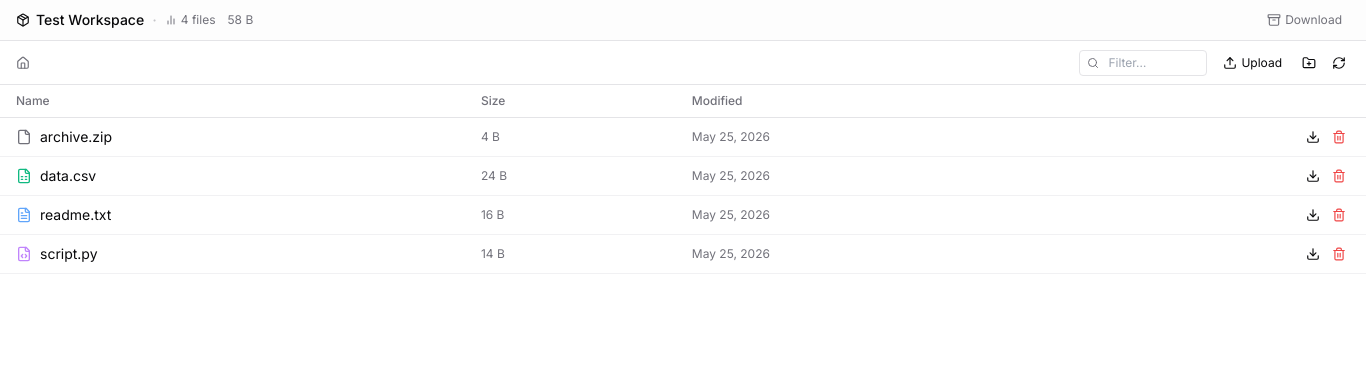
WorkspacePage › shows 'binary file' message for zip with no preview
The width and height of the screenshot is (1366, 381).
Step 1. Click the row with test id "file-row-archive.zip" → [683, 137], box [0,118,1365,156]
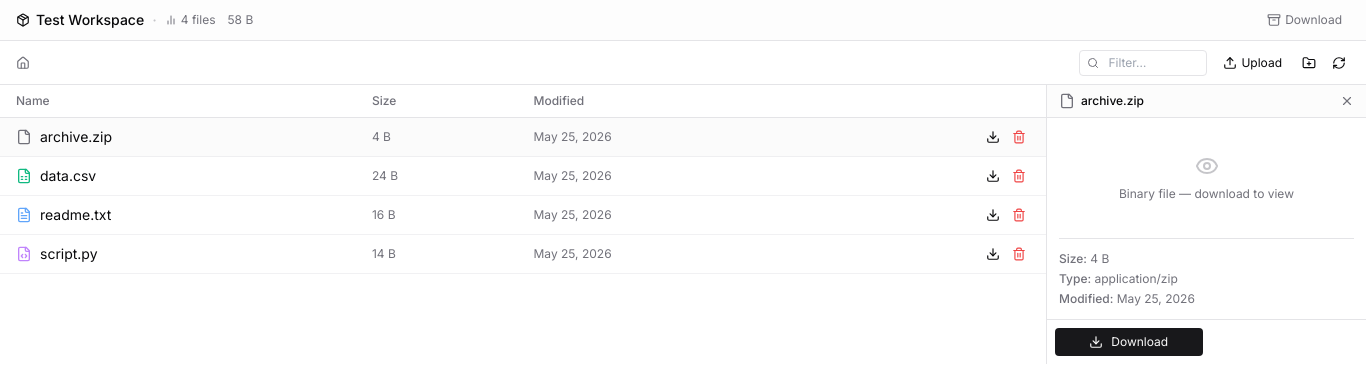
Expected: the element with test id "preview-pane" shows "Binary file", [1119,186,1294,201]
